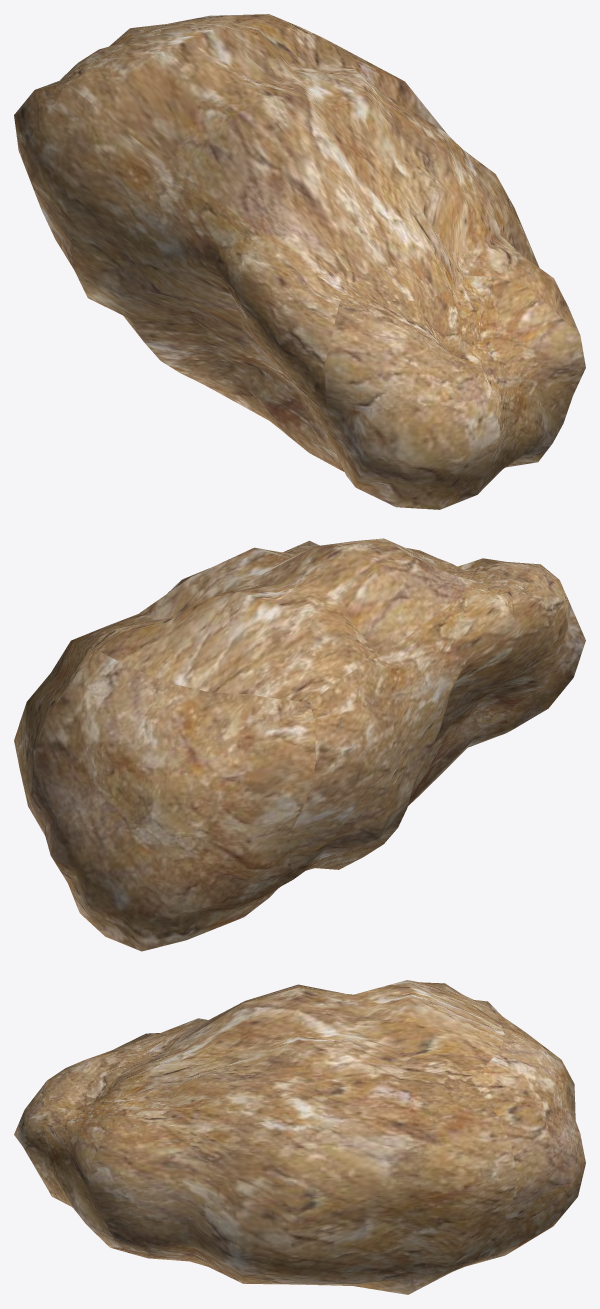
The model's file is shard01.obj.
3 renders of one model, top to bottom at view 1: azimuth 30°, elevation 25°; view 2: azimuth 150°, elevation 25°; view 3: azimuth 270°, elevation 25°, orthographic. The views are drawn at different scales.
Visible parts, largest first — view 1: Cube; view 2: Cube; view 3: Cube.
Boxes of the visible parts, x1,y1,x2,y2 form: Cube: [14, 14, 585, 509]; Cube: [14, 538, 585, 951]; Cube: [14, 980, 585, 1294].
Size of the model in its own units: 0.9259 by 0.8668 by 1.72.
1 material, 1 textured.
